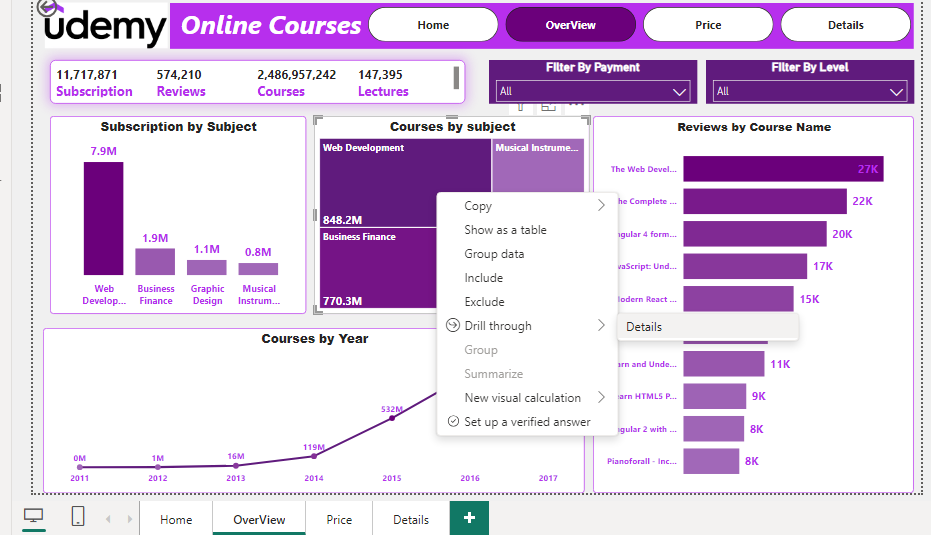

The page's visual inventory and layout, read from the dashboard file:
{"tool":"powerbi","page":{"name":"OverView","canvas":[1280,720],"ordinal":1},"visuals":[{"type":"image","box":[0,8.6,210,75.7],"z":0},{"type":"textbox","box":[197.1,14.3,1071.4,65.7],"z":1000},{"type":"multiRowCard","fields":{"Values":["udemy.Subscription","udemy.Reviews","udemy.Courses","udemy.Lectures"]},"box":[24.5,96.5,597.6,63.4],"z":2000},{"type":"columnChart","title":"Subscription by Subject","fields":{"Y":["udemy.Subscription"],"Category":["udemy.subject"]},"box":[24.5,177.1,368.6,285.1],"z":3000},{"type":"treemap","fields":{"Values":["udemy.Courses"],"Group":["udemy.subject"]},"box":[404.6,177.1,397.4,285.1],"z":4000},{"type":"lineChart","fields":{"Y":["udemy.Courses"],"Category":["udemy.published_timestamp.Variation.Date Hierarchy.Year"]},"box":[14.4,482.4,780.5,237.6],"z":5000},{"type":"clusteredBarChart","title":"Reviews by Course Name","fields":{"Category":["udemy.course_titel"],"Y":["udemy.Reviews"]},"box":[806.4,177.1,462.2,542.9],"z":6000},{"type":"slicer","title":"FIlter By Payment","fields":{"Values":["udemy.Payment"]},"box":[656.6,96.5,299.5,63.4],"z":7000},{"type":"slicer","title":"FIlter By Level","fields":{"Values":["udemy.level"]},"box":[969.1,96.5,299.5,63.4],"z":8000},{"type":"actionButton","box":[0,0,100,40],"z":9000},{"type":"pageNavigator","box":[482.4,20.2,784.8,50.4],"z":10000}]}

Visuals, with their boxes on the page's 1280x720 design canvas (x1, y1, x2, y2). These are canvas units, not pixel positions in the 931x535 screenshot, which may show the page scaled, cropped or inside an application window:
image: Rect(0, 9, 210, 84)
textbox: Rect(197, 14, 1268, 80)
multiRowCard - udemy.Subscription x udemy.Reviews: Rect(24, 96, 622, 160)
"Subscription by Subject" columnChart: Rect(24, 177, 393, 462)
treemap - udemy.Courses x udemy.subject: Rect(405, 177, 802, 462)
lineChart - udemy.Courses x udemy.published_timestamp.Variation.Date Hierarchy.Year: Rect(14, 482, 795, 720)
"Reviews by Course Name" clusteredBarChart: Rect(806, 177, 1269, 720)
"FIlter By Payment" slicer: Rect(657, 96, 956, 160)
"FIlter By Level" slicer: Rect(969, 96, 1269, 160)
actionButton: Rect(0, 0, 100, 40)
pageNavigator: Rect(482, 20, 1267, 71)
